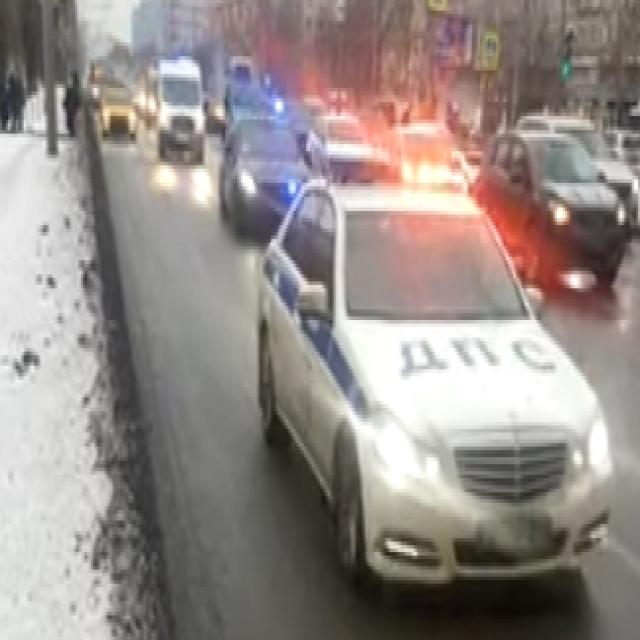ambulance: (155, 57, 208, 170)
non emergency car: (472, 124, 626, 293), (220, 112, 309, 245), (311, 114, 374, 174), (100, 82, 141, 145)
police car: (263, 156, 612, 592)
